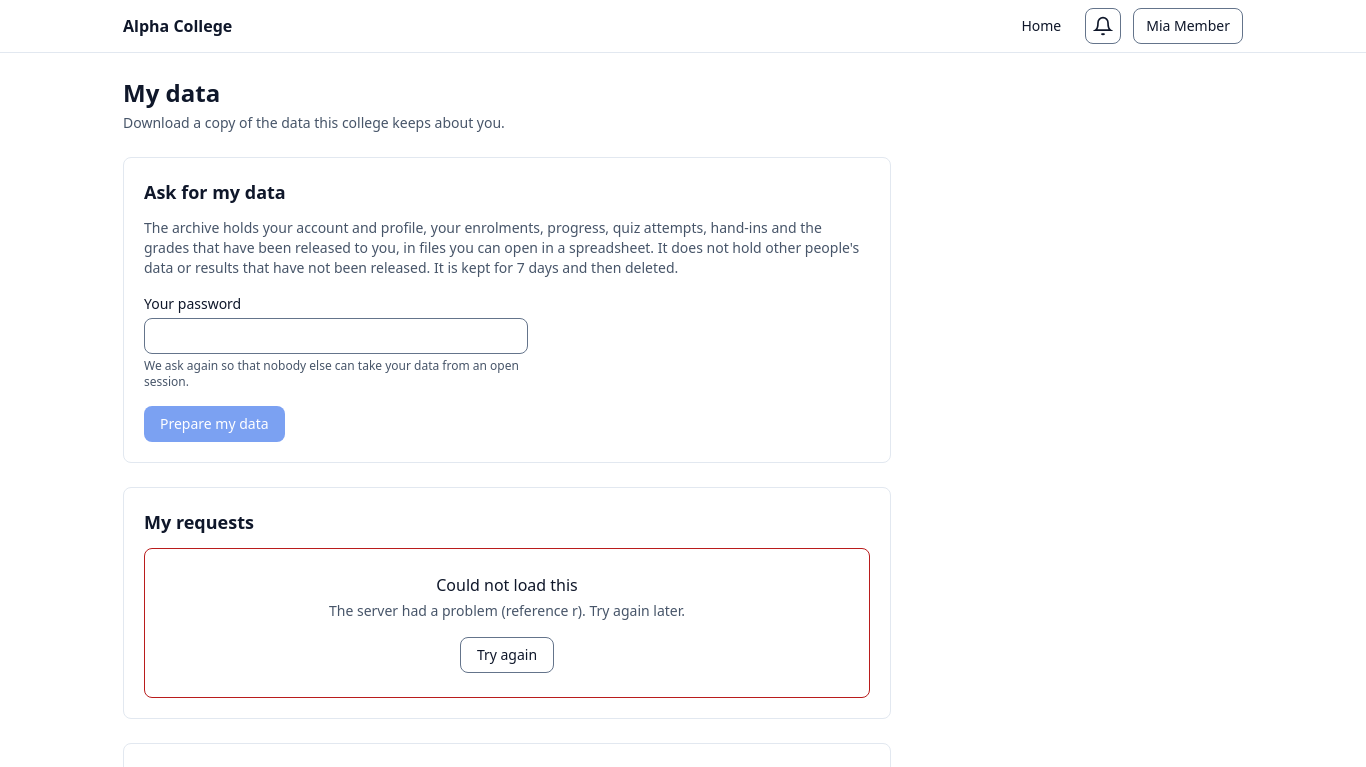
Scenario: My data › shows an error state with a retry when the list cannot be loaded
Click the button "Try again" at [507, 655], box [460, 637, 554, 673]
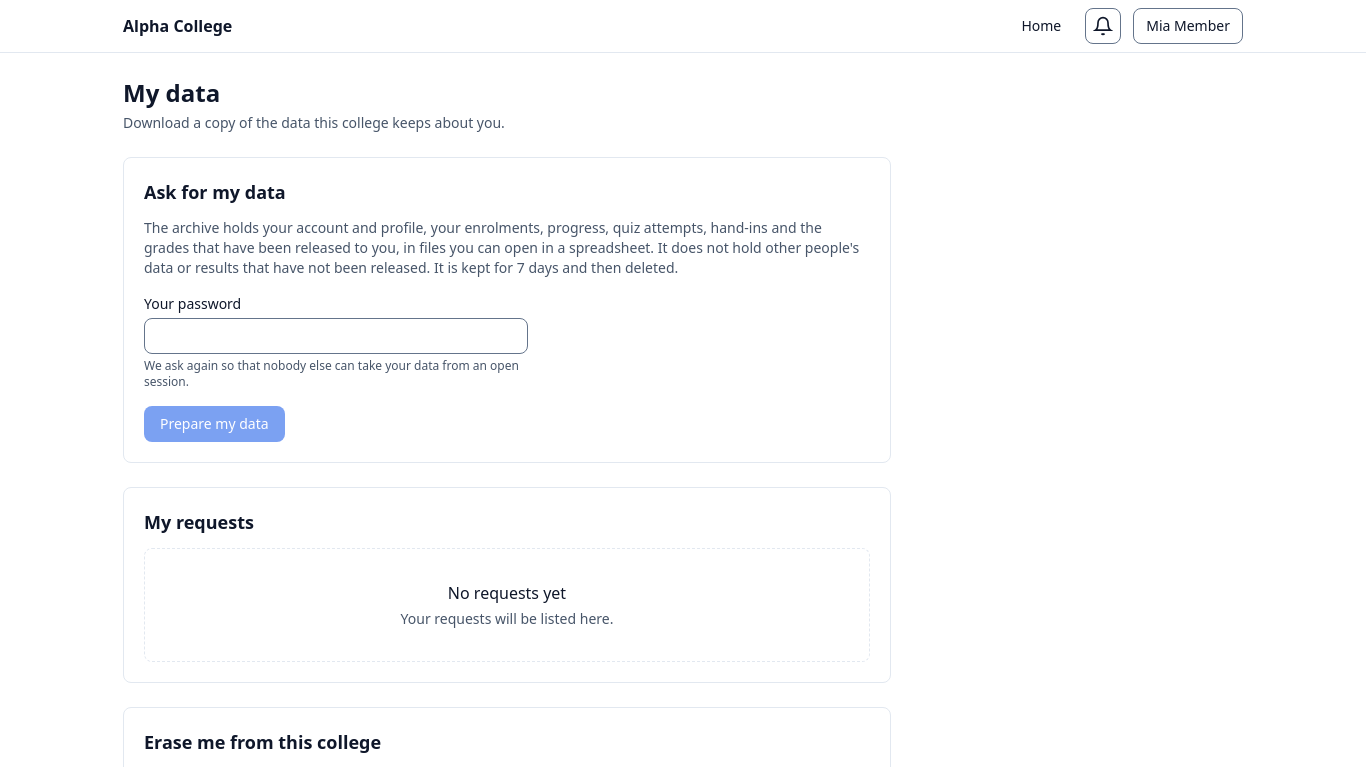
Now the text "No requests yet" is shown, box [448, 582, 566, 604]
